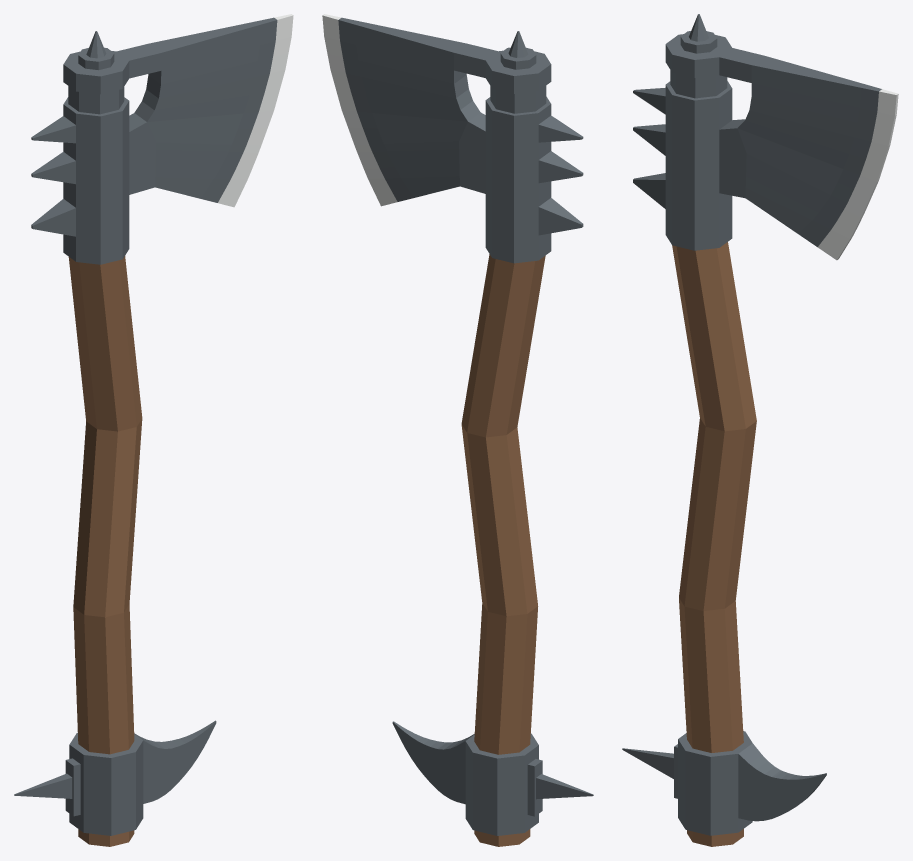
Rendered from one_handed_axe_3.fbx.
3 views of the same model, side by side, from view 1: azimuth 30°, elevation 25°; view 2: azimuth 150°, elevation 25°; view 3: azimuth 330°, elevation 25° (orthographic).
Parts seen in each view (by area): view 1: one_handed_axe_3; view 2: one_handed_axe_3; view 3: one_handed_axe_3.
Boxes of the visible parts, bbox=[...] form: one_handed_axe_3: bbox=[14, 14, 293, 846]; one_handed_axe_3: bbox=[322, 14, 593, 846]; one_handed_axe_3: bbox=[622, 14, 898, 846].
Size of the model in its own units: 0.4257 by 1.2 by 0.0958.
Materials: 1 (1 with a texture image).
